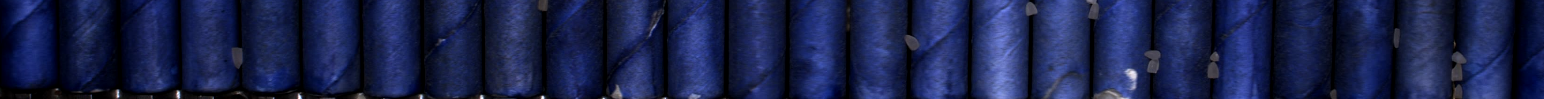broken_grain: (226, 42, 250, 72), (900, 31, 923, 57), (1018, 1, 1042, 20), (1145, 57, 1164, 81), (1448, 45, 1469, 66), (1203, 57, 1222, 80), (1447, 65, 1466, 84), (1140, 46, 1164, 61), (1087, 1, 1103, 22)
